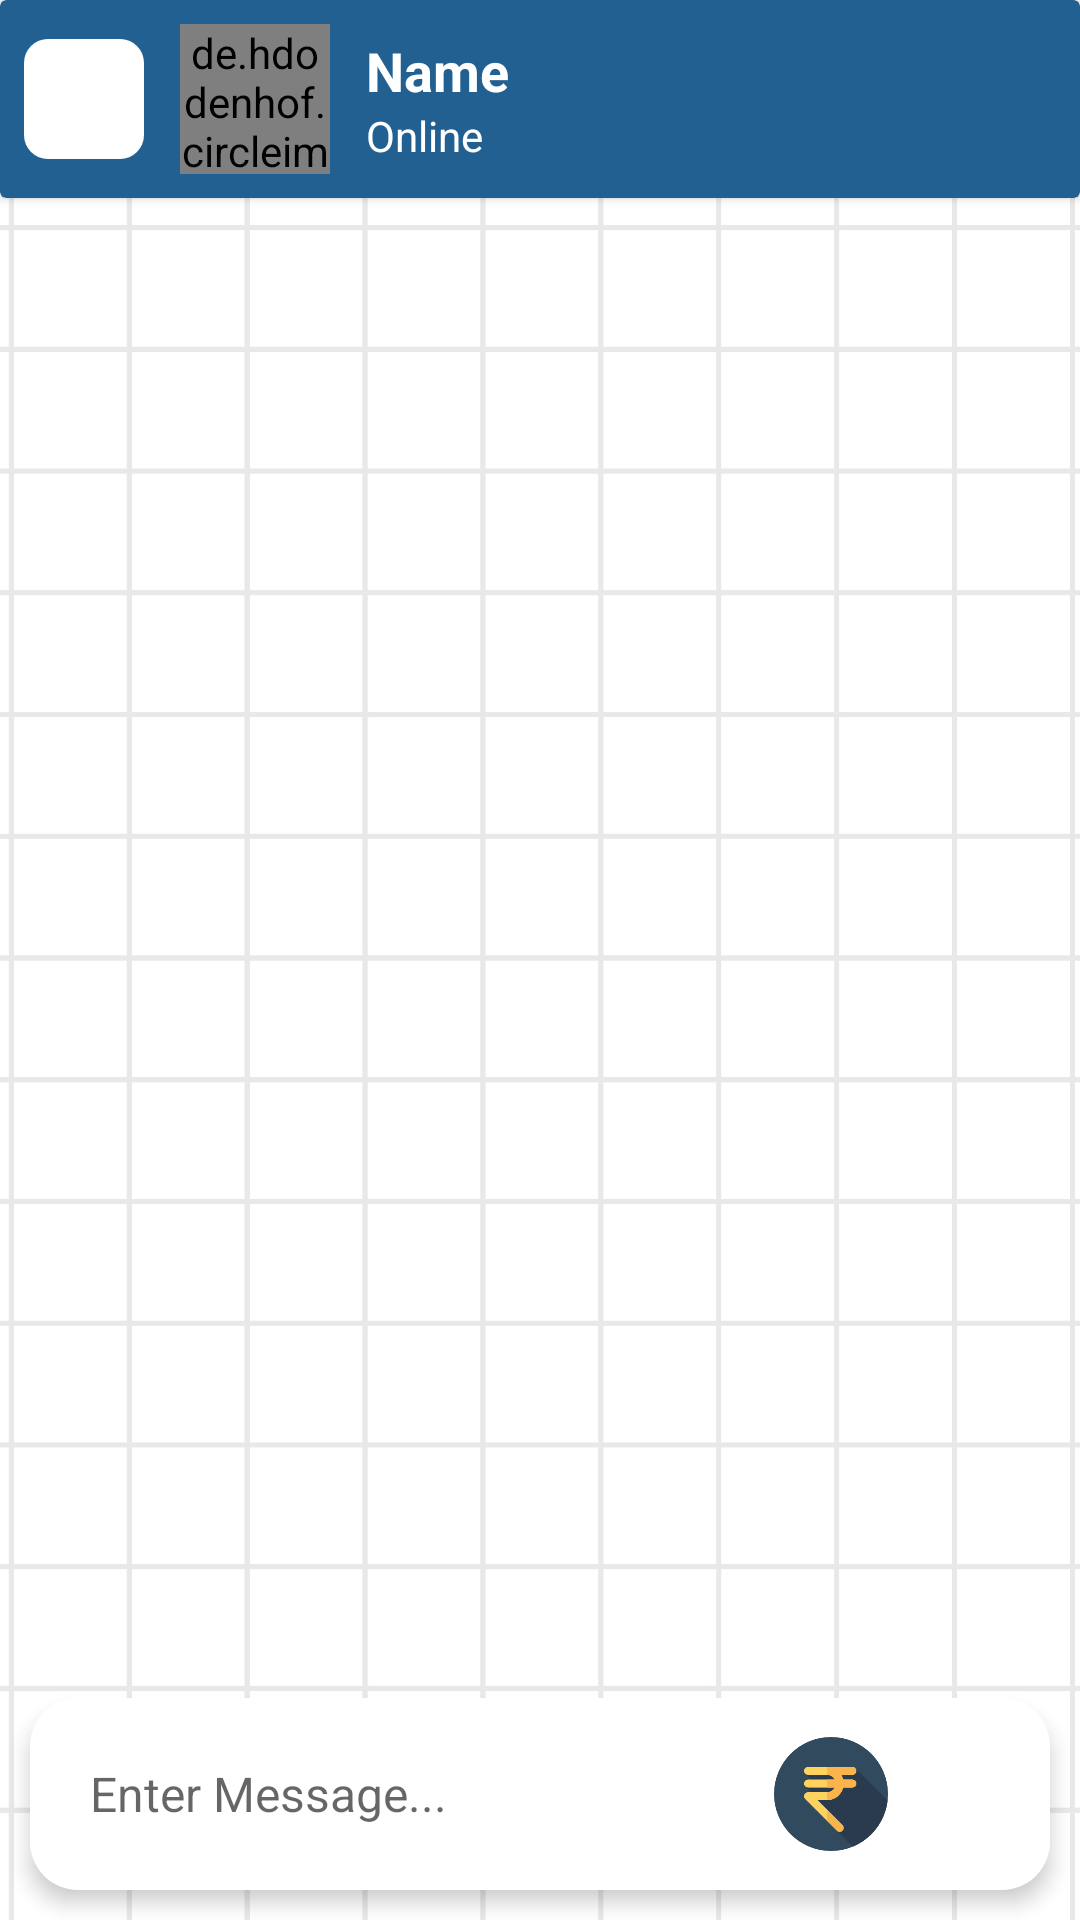

Icons on this 1080*1920 Android screen, each with the point to tap as (x,y):
Payment Btn: (831,1794)
